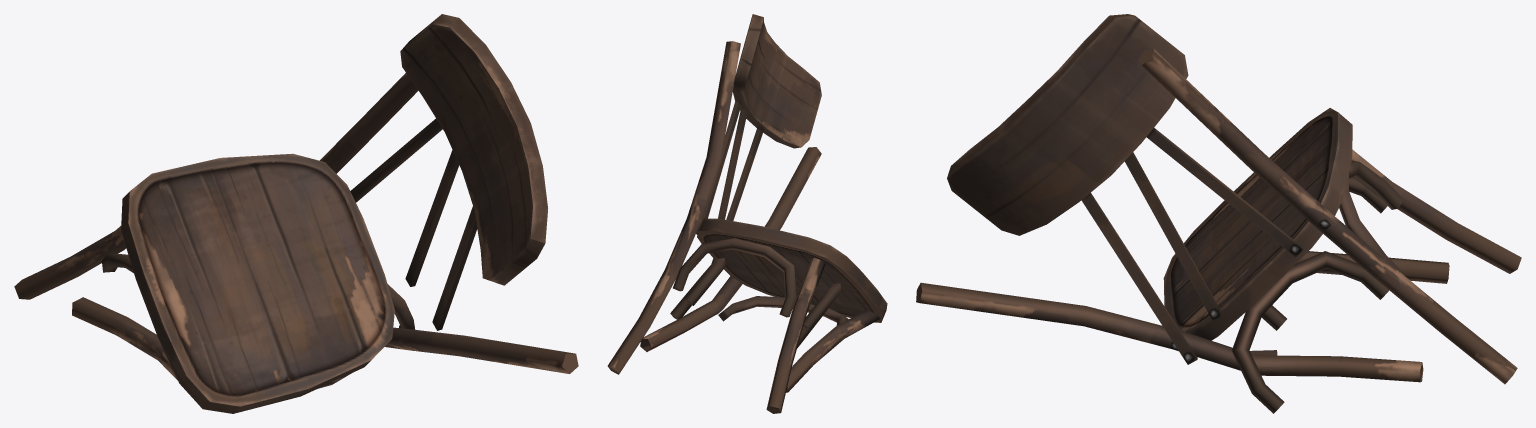
Rendered from chair12_C.FBX.
3 renders of one model, left to right at view 1: azimuth 30°, elevation 25°; view 2: azimuth 150°, elevation 25°; view 3: azimuth 270°, elevation 25°, orthographic. The views are drawn at different scales.
Parts seen in each view (by area): view 1: chair12_C; view 2: chair12_C; view 3: chair12_C.
Boxes of the visible parts, x1=… form: chair12_C: x1=14, y1=14, x2=578, y2=413; chair12_C: x1=607, y1=14, x2=887, y2=413; chair12_C: x1=916, y1=14, x2=1521, y2=413.
Bounding box in the file's own units: 56.24 × 75.12 × 108.
